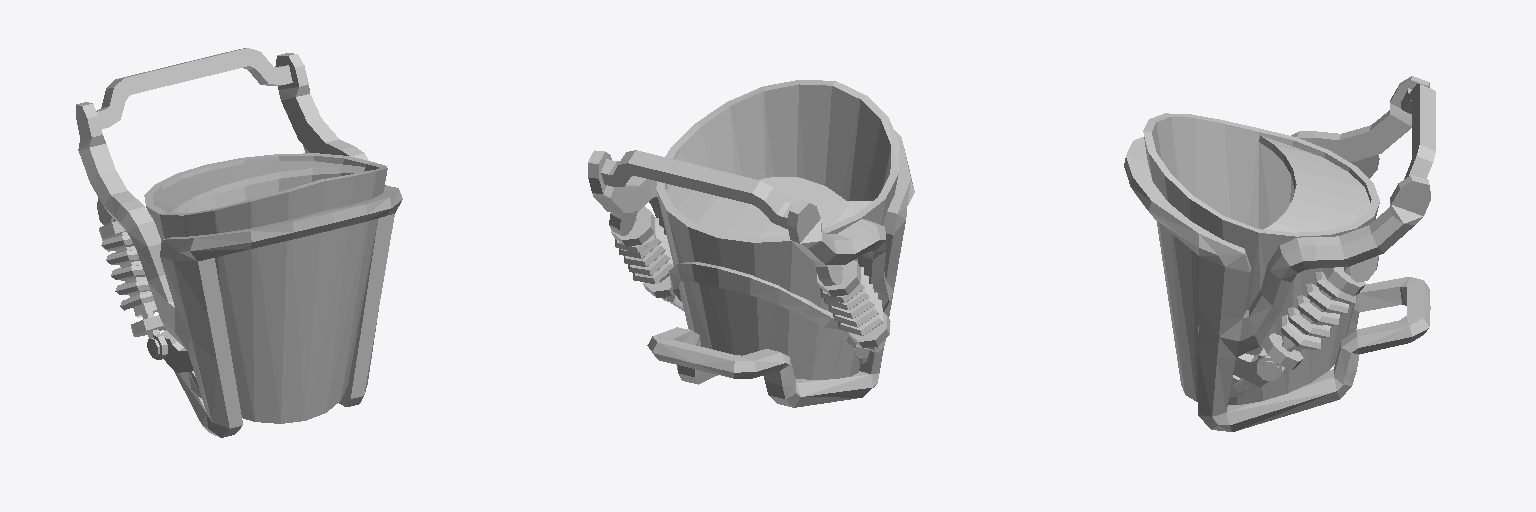
File: slosher.obj
The picture shows the model from 3 angles: view 1: azimuth 30°, elevation 25°; view 2: azimuth 150°, elevation 25°; view 3: azimuth 270°, elevation 25°; orthographic projection.
Parts seen in each view (by area): view 1: Root_Model__M_body; view 2: Root_Model__M_body; view 3: Root_Model__M_body.
Boxes of the visible parts, <box> form: Root_Model__M_body: <box>76,48,402,437</box>; Root_Model__M_body: <box>588,80,914,407</box>; Root_Model__M_body: <box>1124,76,1435,431</box>.
Size of the model in its own units: 0.6966 by 0.7497 by 0.7481.